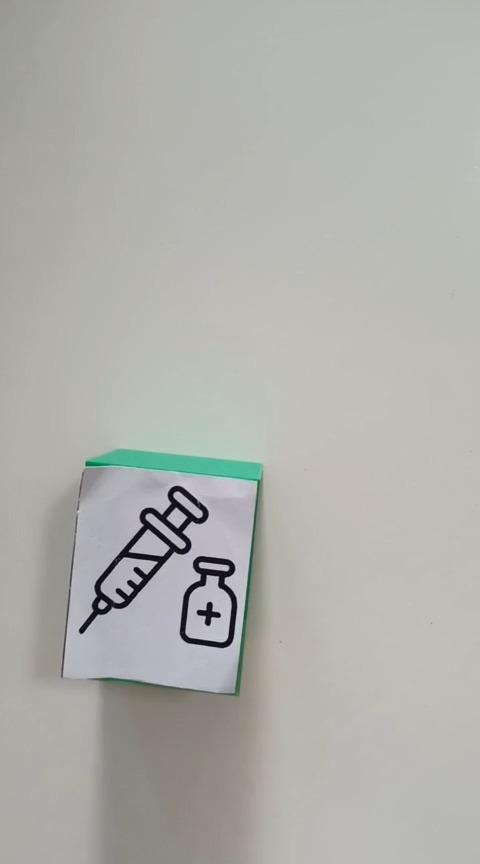antiseptic cream: (63, 447, 265, 697)
